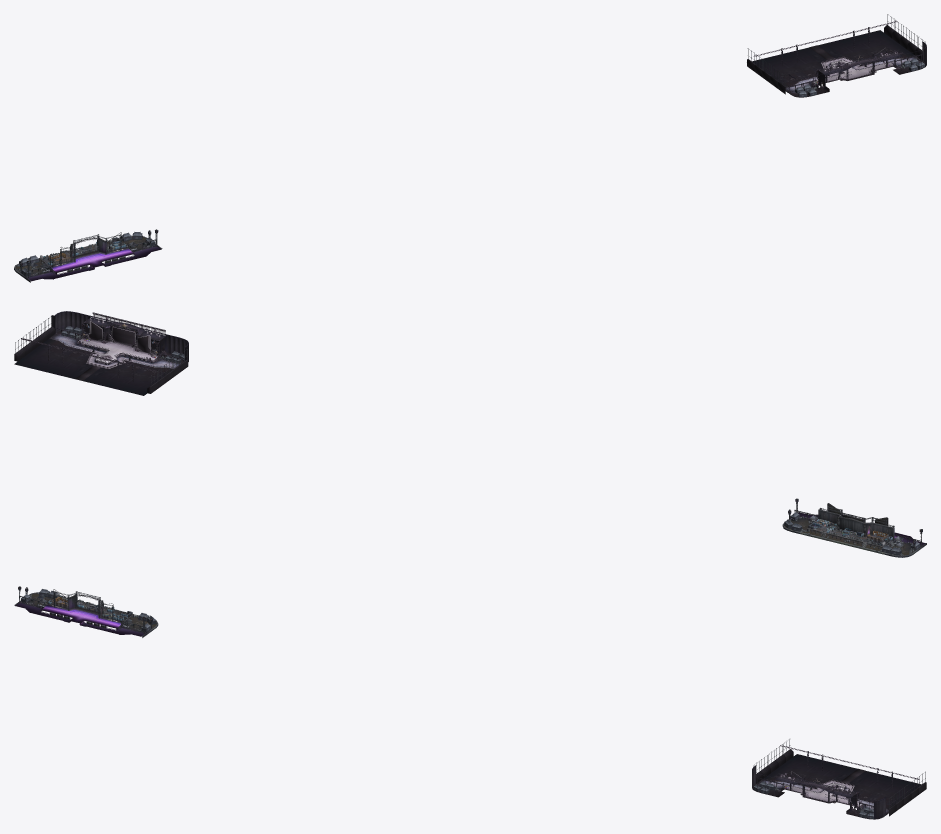
Rendered from febg_domeconcert_001_02.glb.
The picture shows the model from 3 angles, top to bottom: view 1: azimuth 30°, elevation 25°; view 2: azimuth 150°, elevation 25°; view 3: azimuth 330°, elevation 25°; orthographic projection. The views are drawn at different scales.
Visible parts, largest first — view 1: febg_domeconcert_001_bg_02, febg_domeconcertbackstage_001_01_bg_02, febg_domeconcert_001_bg_01; view 2: febg_domeconcert_001_bg_02, febg_domeconcert_001_bg_01, febg_domeconcertbackstage_001_01_bg_01, febg_domeconcert_001_main_panel_01, febg_domeconcertbackstage_001_01_bg_02, febg_domeconcertbackstage_001_01_curtain_01; view 3: febg_domeconcert_001_bg_02, febg_domeconcertbackstage_001_01_bg_02, febg_domeconcert_001_bg_01.
Boxes of the visible parts, x1,y1,x2,y2 form: febg_domeconcert_001_bg_02: (752, 30, 924, 97); febg_domeconcertbackstage_001_01_bg_02: (15, 236, 161, 281); febg_domeconcert_001_bg_01: (788, 41, 926, 92); febg_domeconcert_001_bg_02: (14, 330, 188, 395); febg_domeconcert_001_bg_01: (54, 311, 188, 361); febg_domeconcertbackstage_001_01_bg_01: (782, 509, 926, 557); febg_domeconcert_001_main_panel_01: (83, 321, 157, 356); febg_domeconcertbackstage_001_01_bg_02: (784, 512, 925, 555); febg_domeconcertbackstage_001_01_curtain_01: (818, 509, 893, 538); febg_domeconcert_001_bg_02: (752, 754, 921, 819); febg_domeconcertbackstage_001_01_bg_02: (15, 593, 156, 636); febg_domeconcert_001_bg_01: (752, 765, 886, 819).
Size of the model in its own units: 1181 by 33.66 by 118.
Materials: 19 (19 with a texture image).
